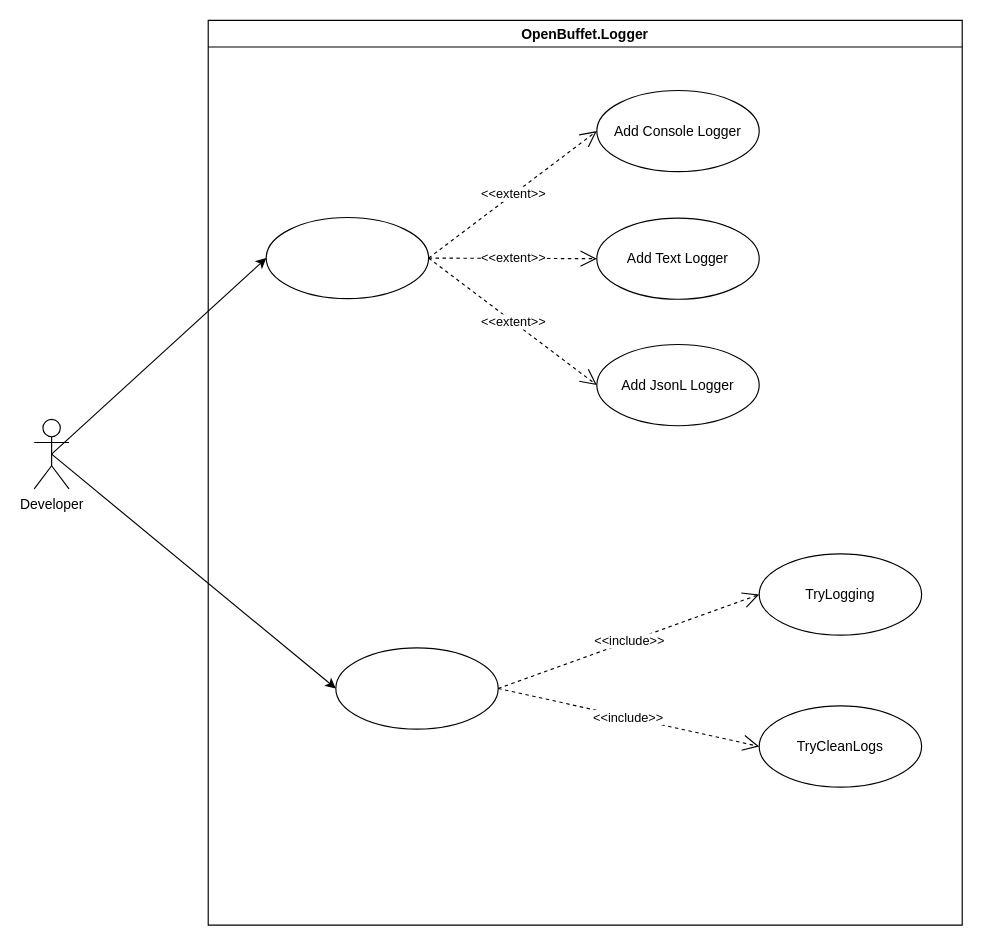
This 983x945 diagram has some shape labels left out. Each missing label, with the centre of its shape:
"Add Logger Service" belongs at pixel 347 257.
"Create Logger Manager" belongs at pixel 416 688.
